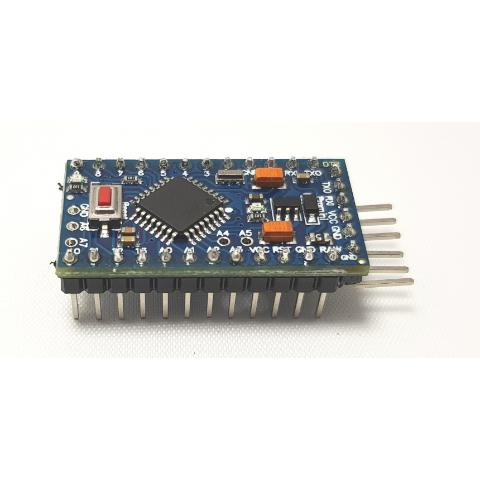Arduino-Pro-Mini: (44, 149, 416, 322)
